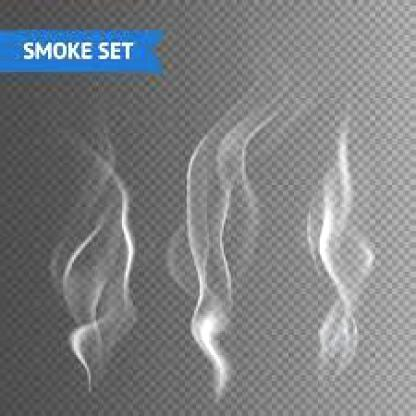smoke: (50, 142, 146, 387), (177, 111, 248, 403), (307, 128, 368, 370)
